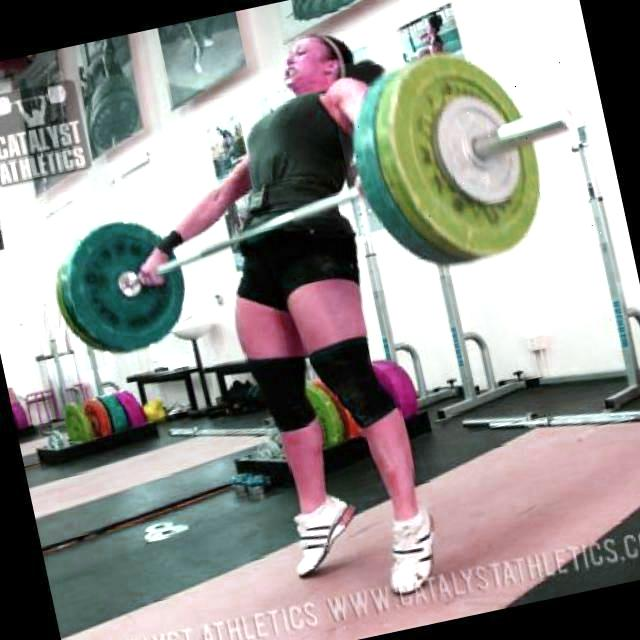barbell: (325, 18, 609, 292)
